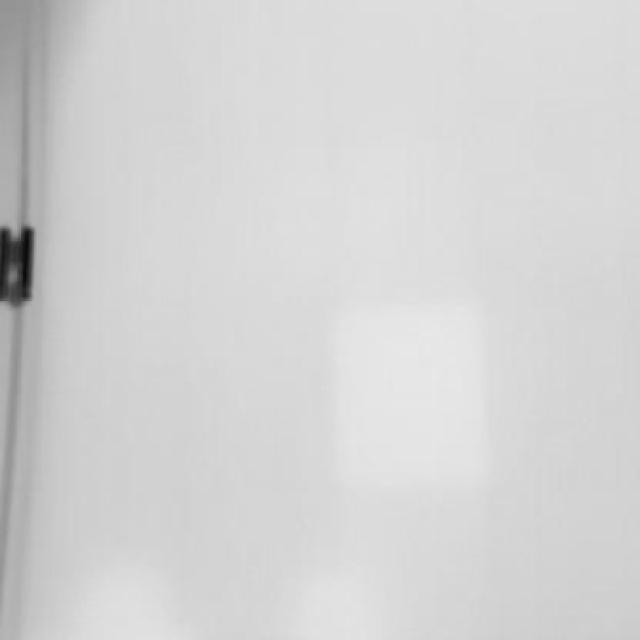hotspot: (330, 298, 492, 496)
